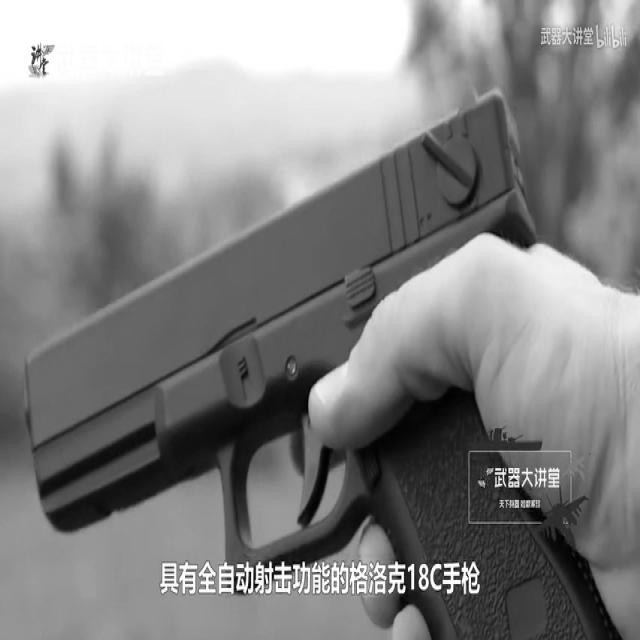Hand-Gun: (23, 18, 639, 640)
